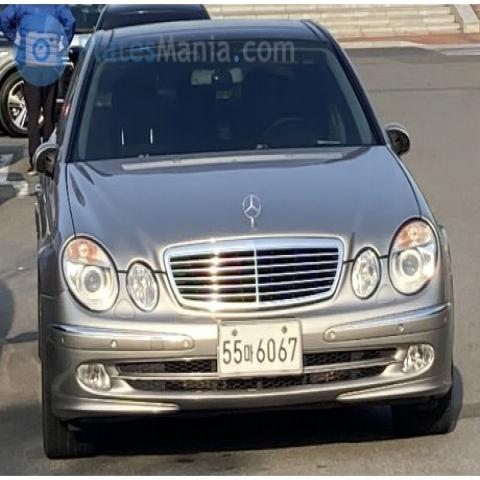LP: (214, 317, 308, 383)
